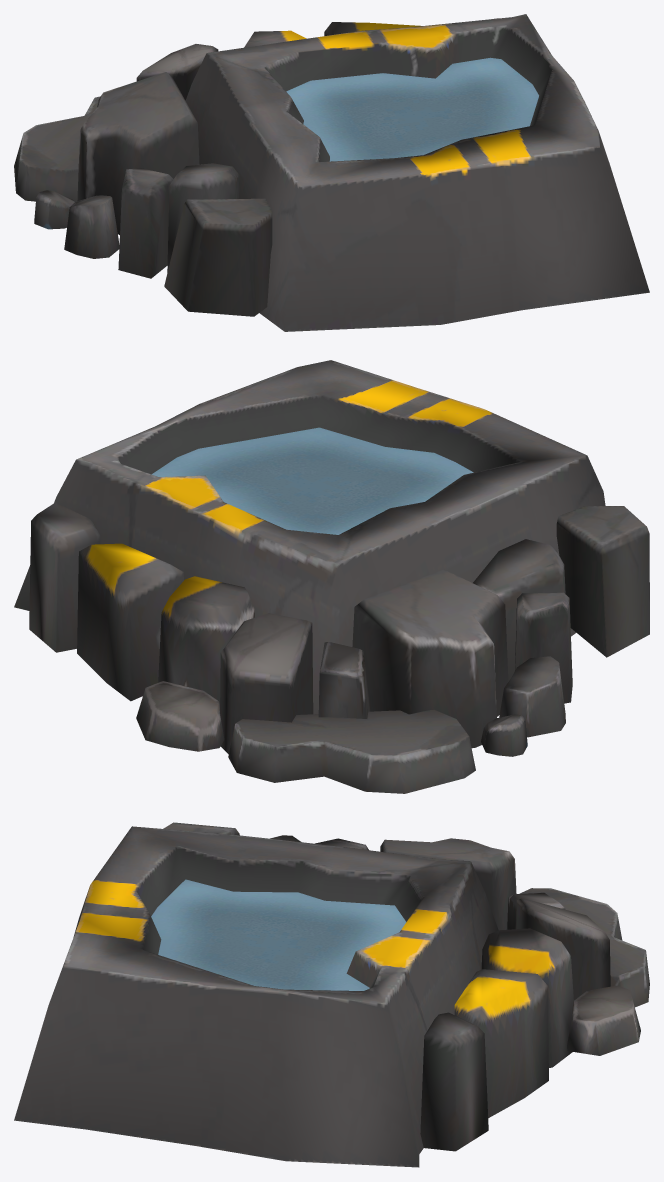
Rendered from #ouchOdysseyStatue.fbx.
3 renders of one model, top to bottom at view 1: azimuth 30°, elevation 25°; view 2: azimuth 150°, elevation 25°; view 3: azimuth 270°, elevation 25°, orthographic. The views are drawn at different scales.
Visible parts, largest first — view 1: OuchWater; view 2: OuchWater; view 3: OuchWater.
Boxes of the visible parts, x1,y1,x2,y2 form: OuchWater: (14, 14, 649, 331); OuchWater: (14, 360, 649, 793); OuchWater: (14, 822, 649, 1167).
Size of the model in its own units: 22.57 by 5.92 by 23.86.
Materials: 1 (1 with a texture image).
